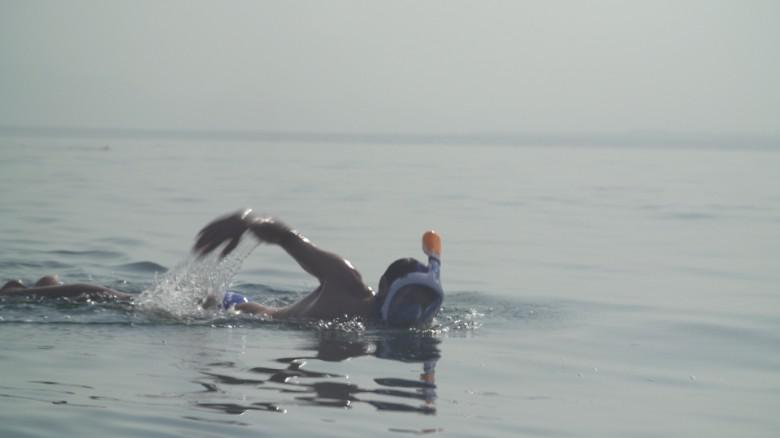human: (0, 206, 447, 331)
